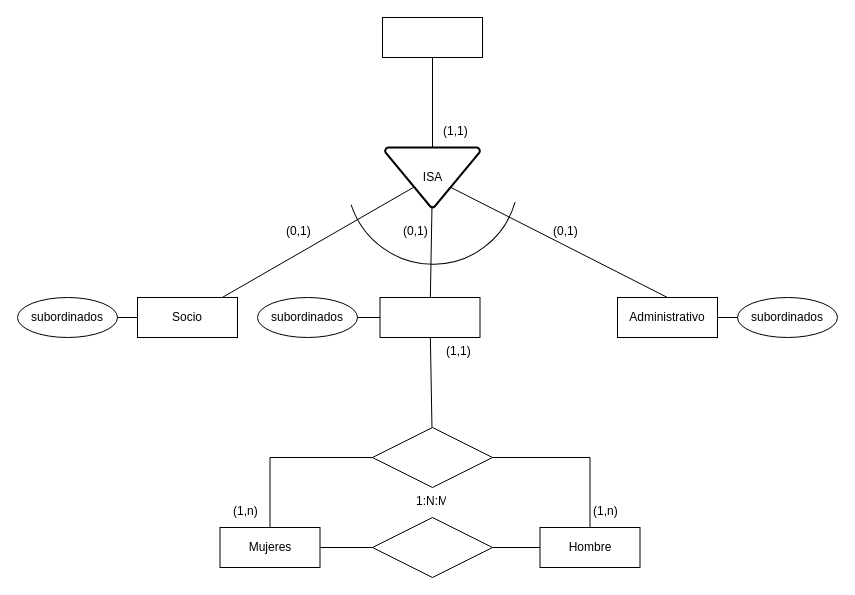
This 855x595 diagram has some shape labels left out. Each missing label, with the box of its shape:
Boda: (372, 516, 492, 578)
Citan: (372, 426, 492, 488)
Director: (379, 296, 480, 338)
Empleado: (382, 16, 482, 58)
